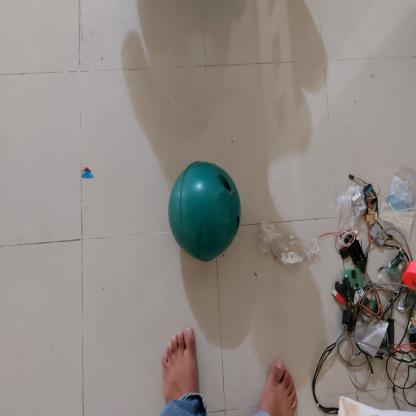green_buoy: (167, 161, 242, 264)
